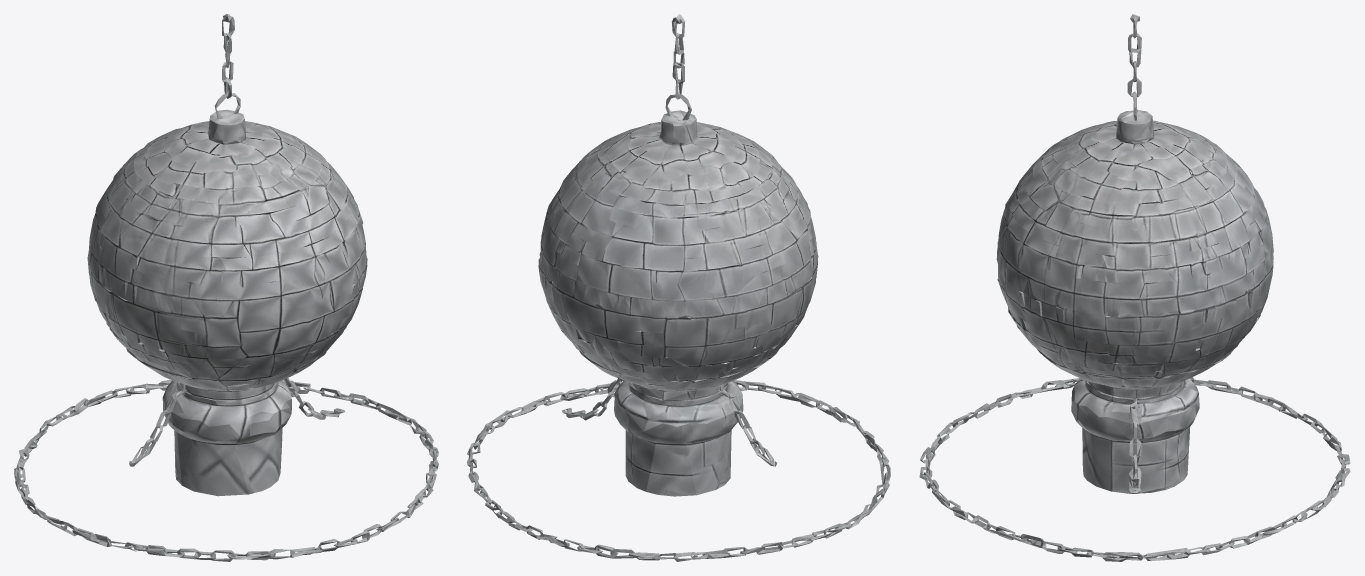
File: disco-ball.glb
The picture shows the model from 3 angles, left to right: view 1: azimuth 30°, elevation 25°; view 2: azimuth 150°, elevation 25°; view 3: azimuth 270°, elevation 25°; orthographic projection.
Size of the model in its own units: 0.8624 by 1 by 0.8531.
Materials: 1 (1 with a texture image).
